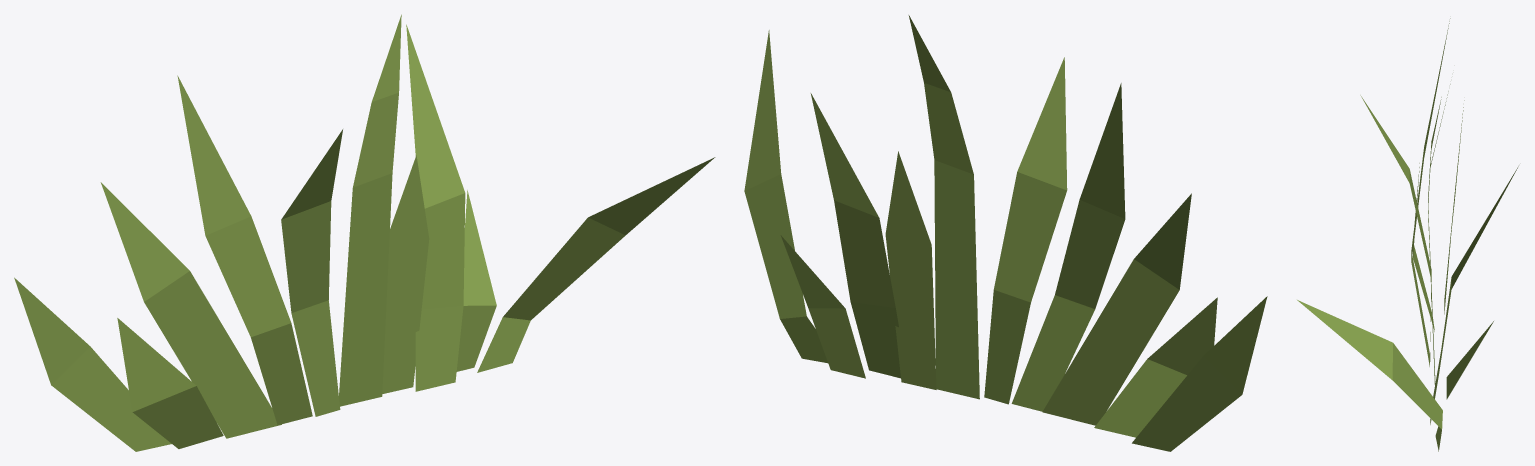
Rendered from grass_02.fbx.
3 views of the same model, side by side, from view 1: azimuth 30°, elevation 25°; view 2: azimuth 150°, elevation 25°; view 3: azimuth 270°, elevation 25° (orthographic). The views are drawn at different scales.
Visible parts, largest first — view 1: grass_02; view 2: grass_02; view 3: grass_02.
Boxes of the visible parts, x1,y1,x2,y2 form: grass_02: (14,14,715,451); grass_02: (744,15,1267,451); grass_02: (1297,18,1518,451).
Bounding box in the file's own units: 148 × 88.29 × 57.18.
